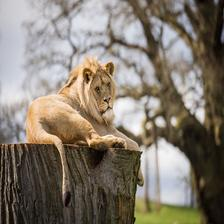Lion: (23, 57, 141, 153)
